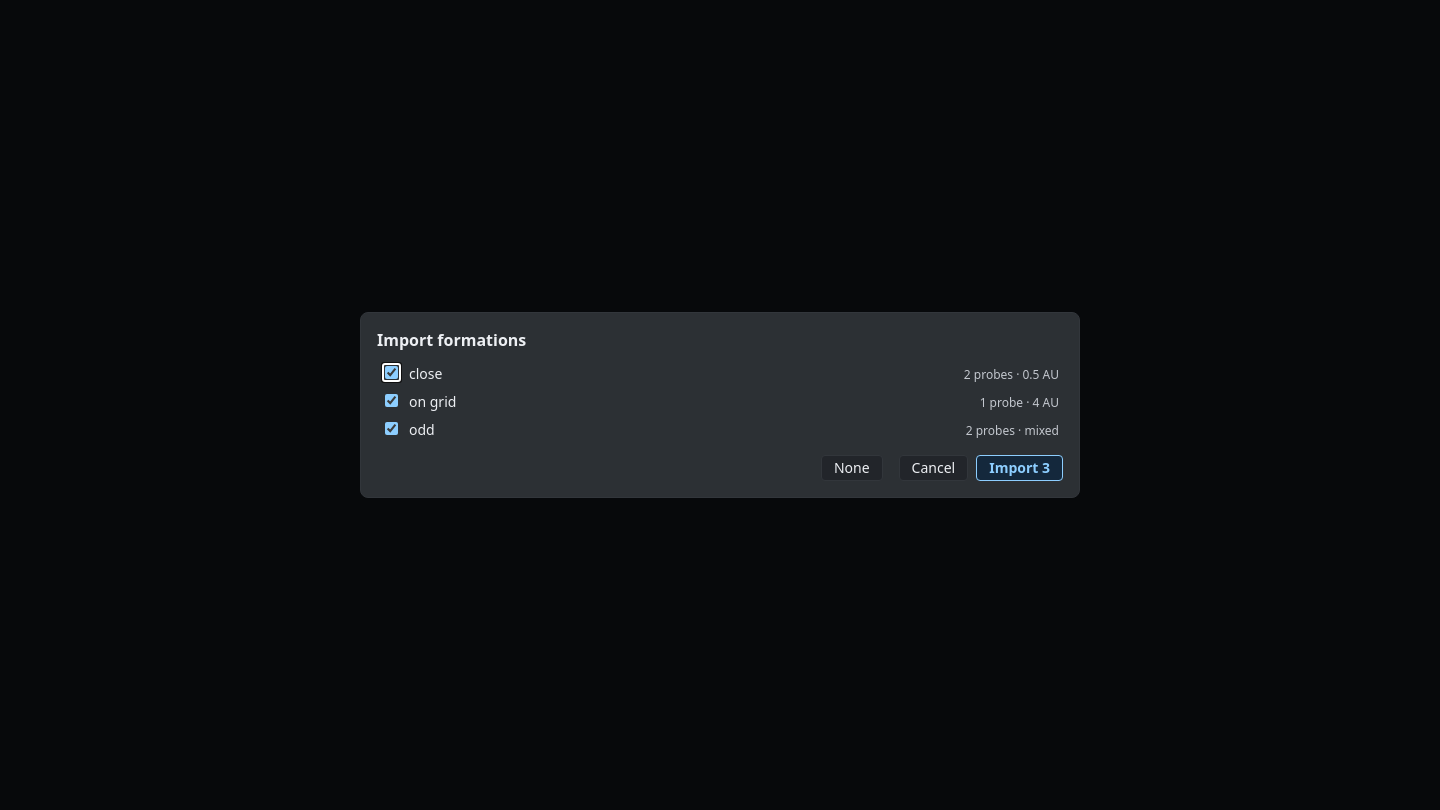
FormationPicker › with nothing ticked, confirm is disabled
// Everything is on, so the button offers the inverse.
Click the button "None" at (852, 468), box [821,455,883,481]
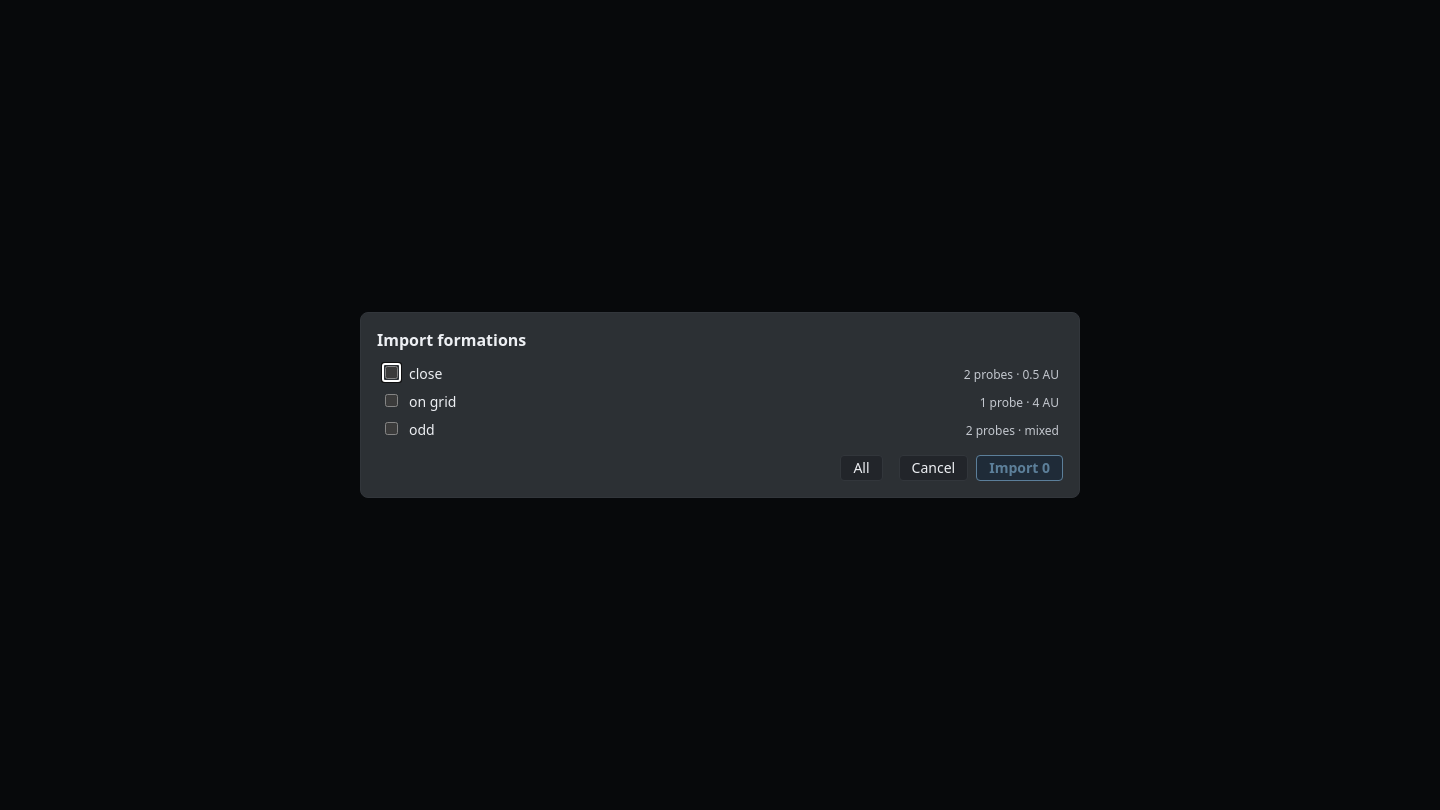
Expected: the button "Import 0" is disabled, [976,455,1063,481]
